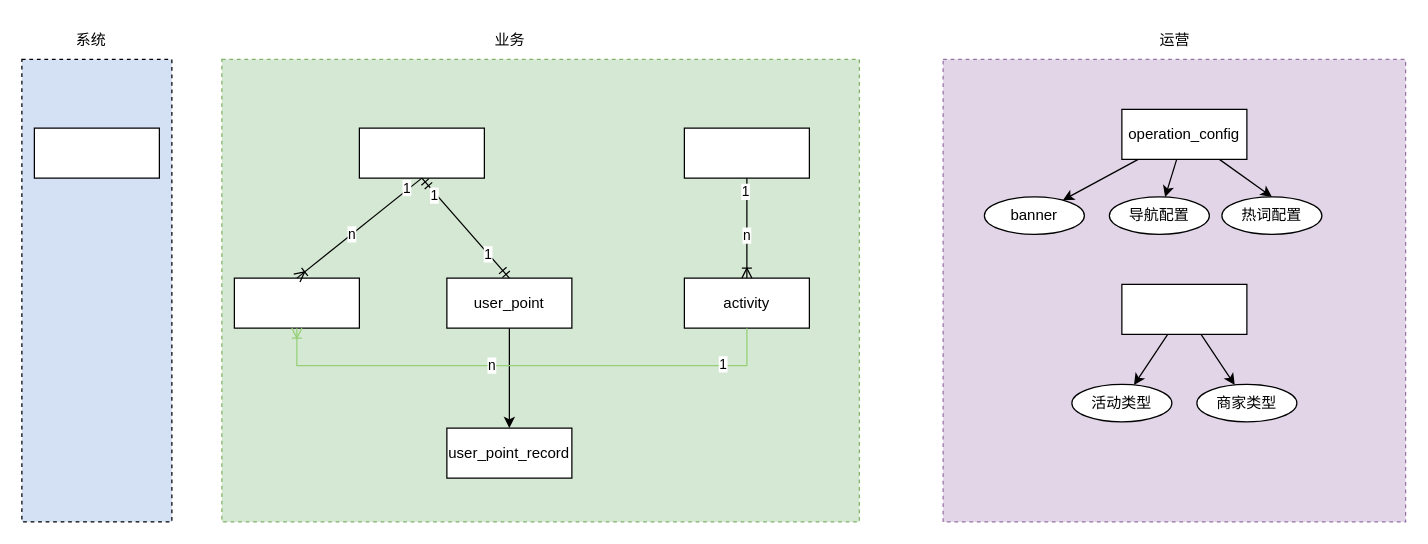
This 1428x544 diagram has some shape labels left out. The shapes that lost their labels are listed below. From the top down, each one's centre as x and y in pixels, then its label:
At (96,152): "system_user".
At (421,152): "wechat_user".
At (746,152): "merchant".
At (296,302): "user_reservation".
At (1184,308): "dictionary".
